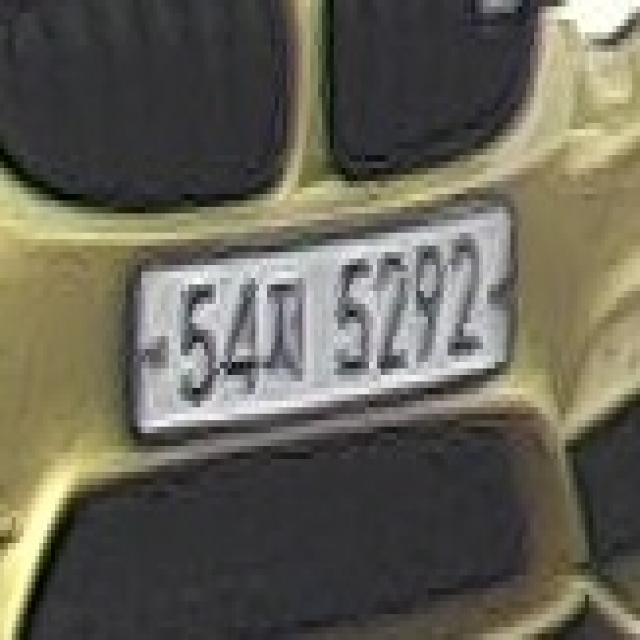2: (440, 220, 491, 381), (373, 246, 412, 382)
4: (220, 246, 263, 407)
5: (177, 258, 220, 414), (326, 258, 373, 382)
9: (401, 226, 452, 401)
jeo: (251, 265, 310, 381)
license_plate: (114, 181, 522, 459)
